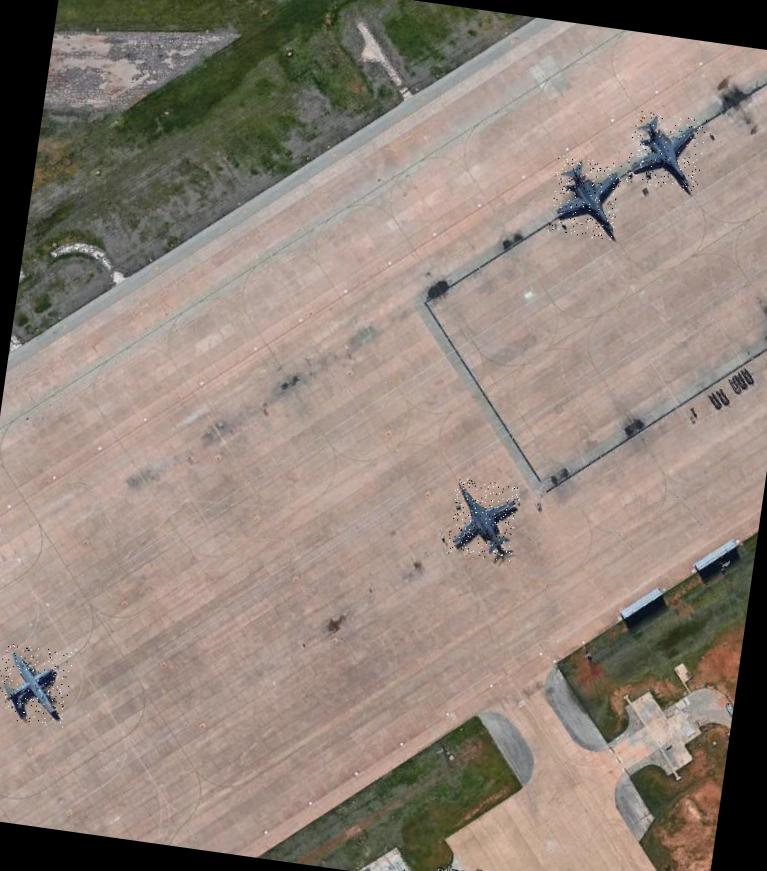A10: (625, 110, 706, 191), (547, 154, 622, 241), (446, 476, 520, 562)
A2: (0, 642, 73, 727)
